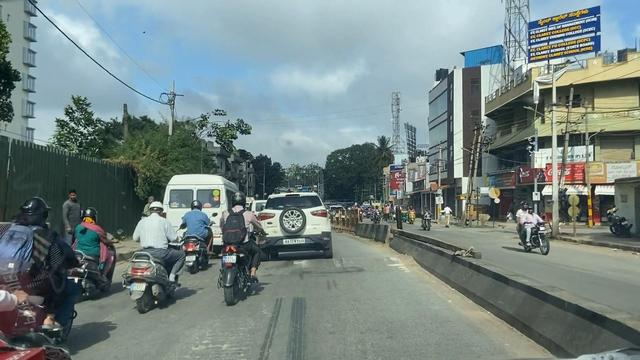LMV: (129, 199, 178, 309), (263, 193, 334, 254), (218, 196, 258, 301), (177, 203, 213, 268)
UnsurfacedRoad: (181, 307, 271, 360)
